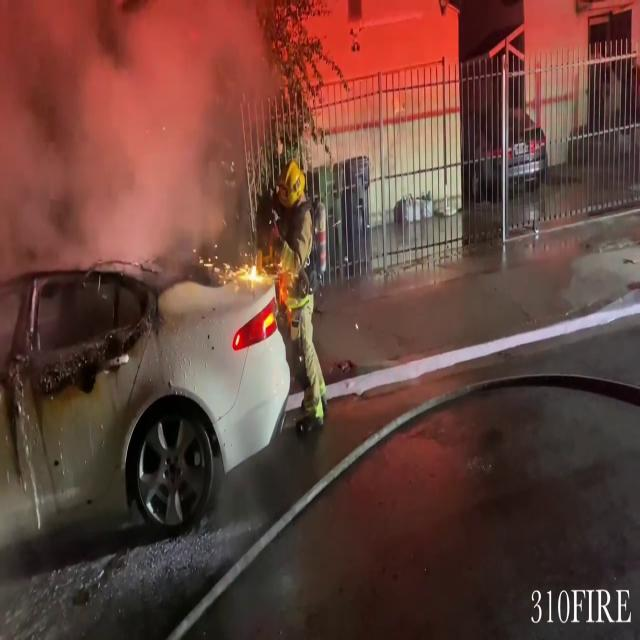Smoke: (0, 0, 274, 267)
